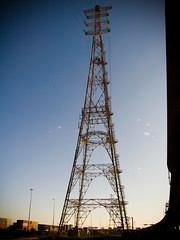power_tower: (53, 2, 133, 237)
